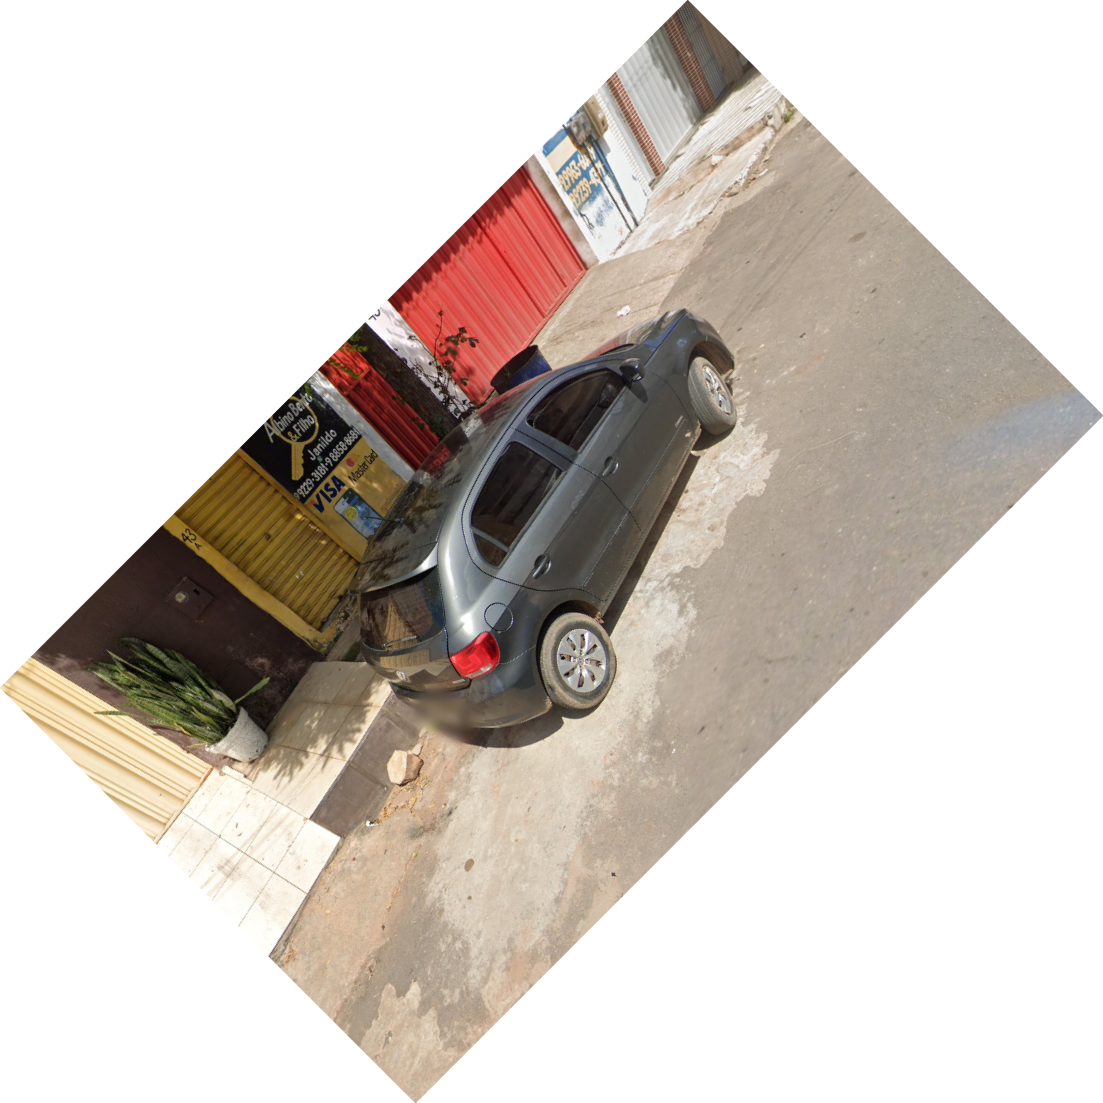car: (343, 305, 748, 756)
